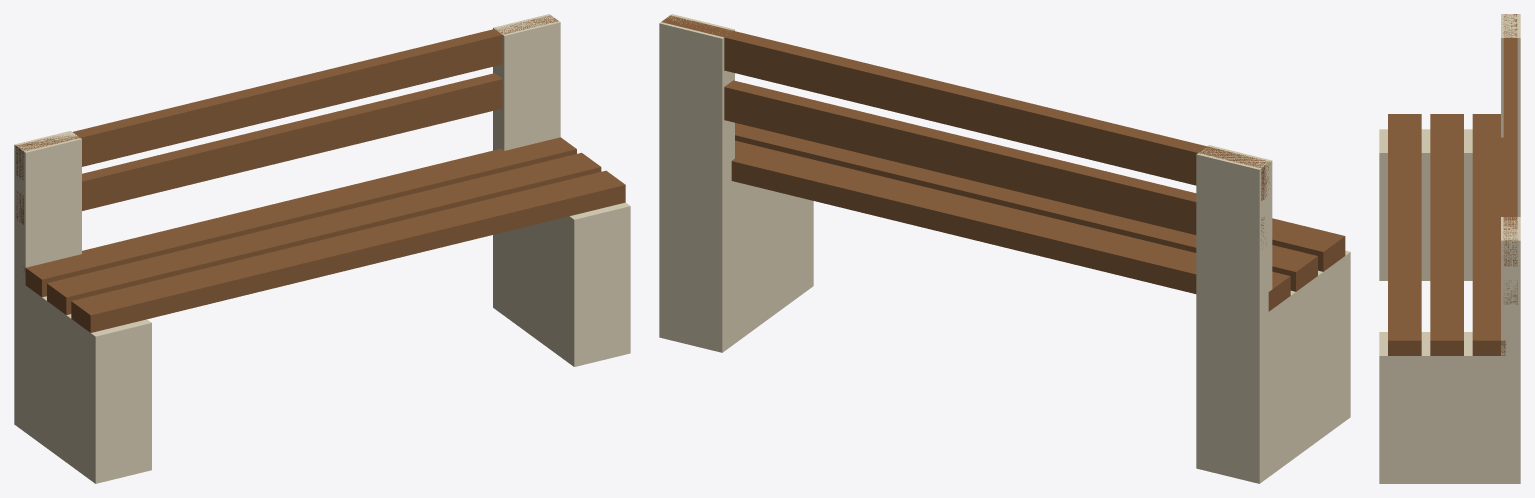
File: Bench.fbx
3 renders of one model, left to right at view 1: azimuth 30°, elevation 25°; view 2: azimuth 150°, elevation 25°; view 3: azimuth 270°, elevation 25°, orthographic. The views are drawn at different scales.
Visible parts, largest first — view 1: Bench; view 2: Bench; view 3: Bench.
Part boxes in pixels (box(x1,y1,x2,y2)): Bench: box(14, 14, 630, 483); Bench: box(659, 14, 1350, 483); Bench: box(1379, 14, 1520, 483).
Bounding box in the file's own units: 1.9 × 0.95 × 0.5.
